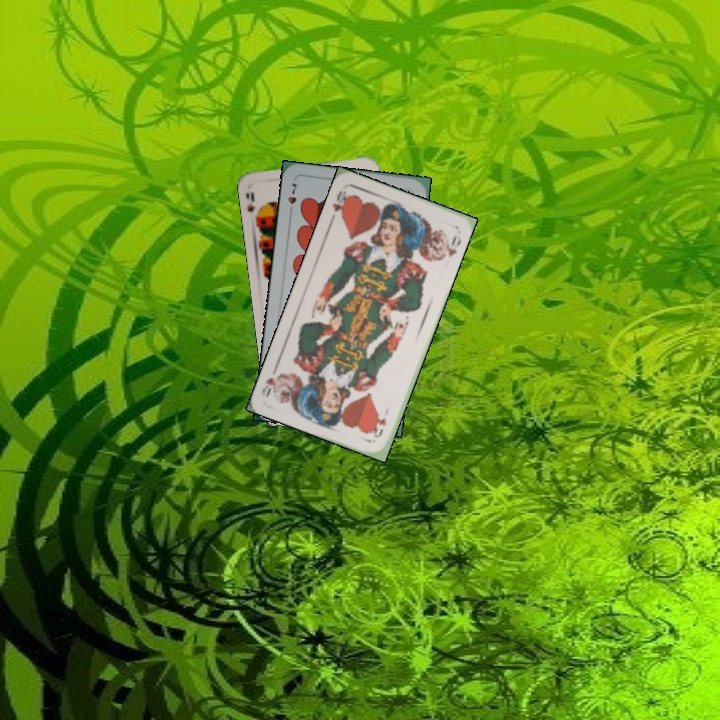H7: (283, 179, 299, 218)
HO: (327, 185, 352, 223), (370, 405, 391, 441)
S9: (242, 188, 263, 223)
